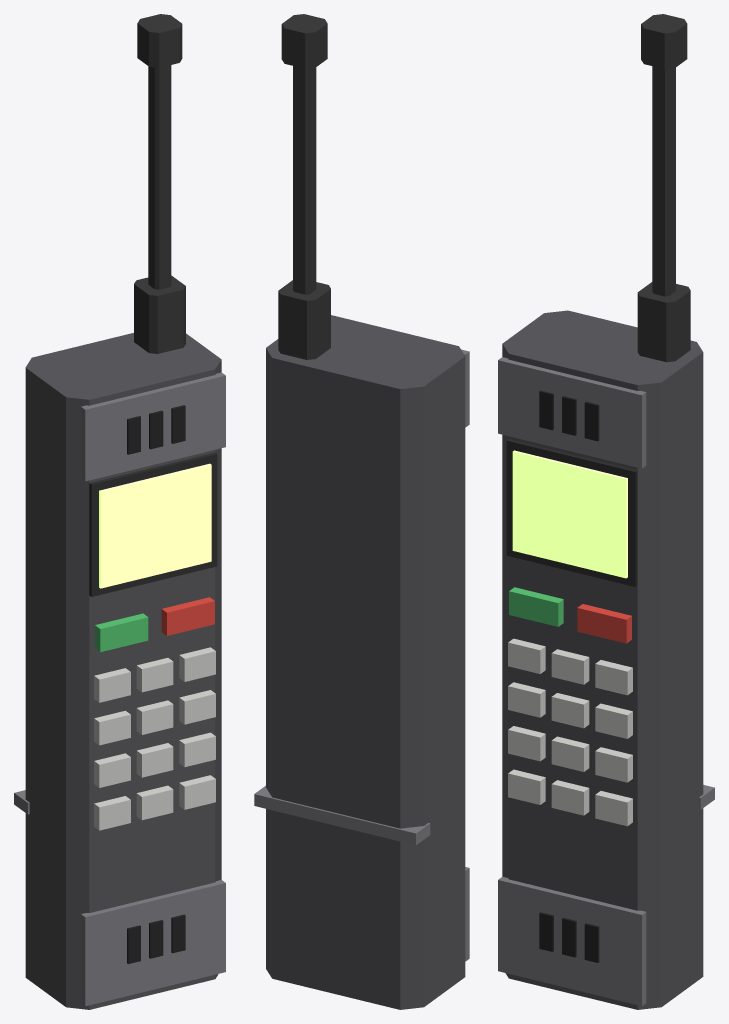
Rendered from staff_brick_phone.glb.
3 views of the same model, side by side, from view 1: azimuth 30°, elevation 25°; view 2: azimuth 150°, elevation 25°; view 3: azimuth 330°, elevation 25° (orthographic). The views are drawn at different scales.
Parts seen in each view (by area): view 1: staff_brick_phone_body, staff_brick_phone_keys, staff_brick_phone_lcd, staff_brick_phone_antenna, staff_brick_phone_grilles; view 2: staff_brick_phone_body, staff_brick_phone_antenna; view 3: staff_brick_phone_body, staff_brick_phone_keys, staff_brick_phone_lcd, staff_brick_phone_antenna, staff_brick_phone_grilles.
Part boxes in pixels (box(x1,y1,x2,y2)): staff_brick_phone_body: box(14, 333, 225, 1009); staff_brick_phone_keys: box(94, 597, 215, 830); staff_brick_phone_lcd: box(89, 452, 217, 596); staff_brick_phone_antenna: box(134, 14, 185, 353); staff_brick_phone_grilles: box(127, 405, 185, 964); staff_brick_phone_body: box(254, 315, 469, 1009); staff_brick_phone_antenna: box(278, 14, 330, 359); staff_brick_phone_body: box(498, 310, 714, 1009); staff_brick_phone_keys: box(508, 587, 632, 826); staff_brick_phone_lcd: box(506, 439, 637, 586); staff_brick_phone_antenna: box(637, 14, 690, 362); staff_brick_phone_grilles: box(539, 390, 599, 962).
Bounding box in the file's own units: 0.1075 × 0.6 × 0.075.
